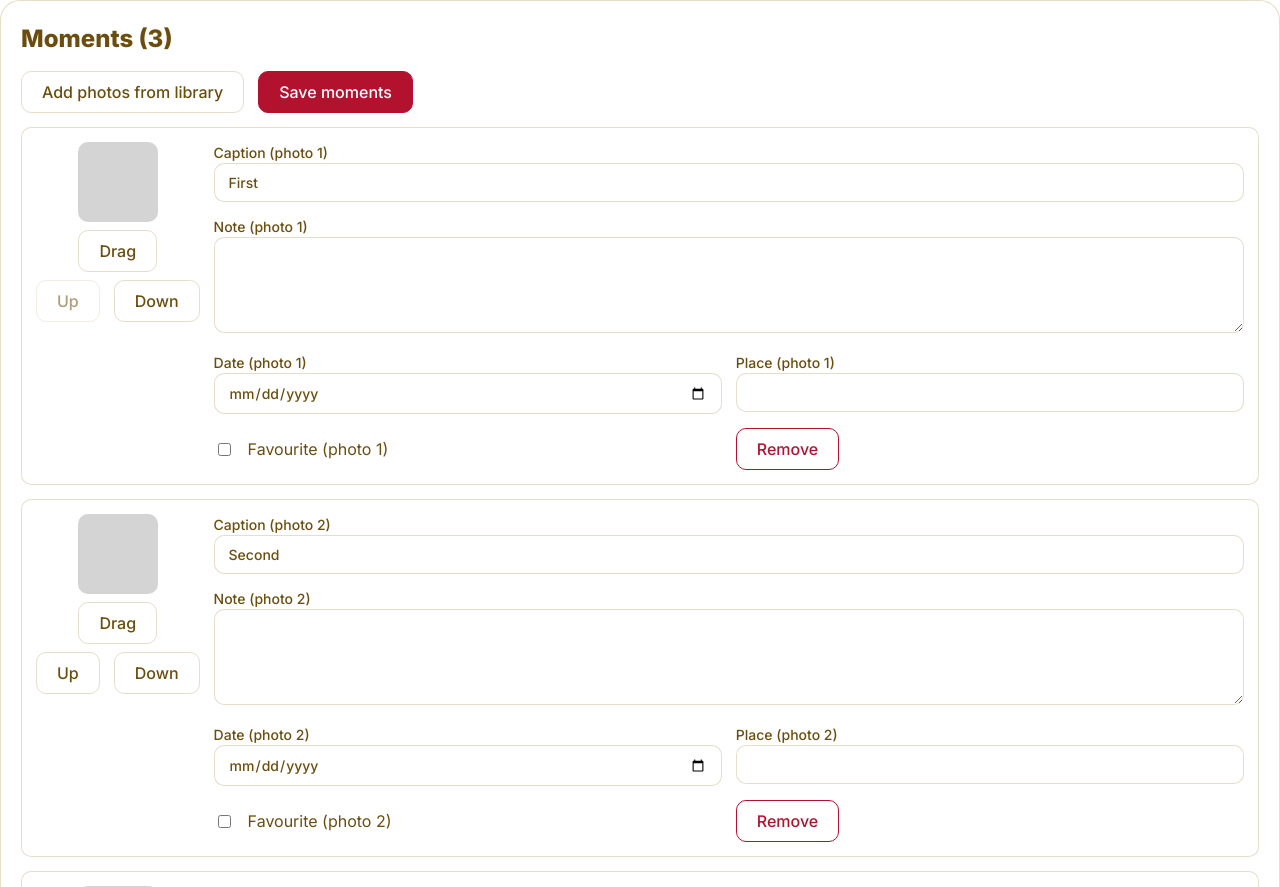
Test: MomentsEditor › drops stale server field errors after a reorder
Expected: the field labelled "Caption (photo 2)" is shown, 214,535 -> 1244,574
Click the button "Save moments" at (336, 92), box 258,71 -> 413,113
(page scrolled)
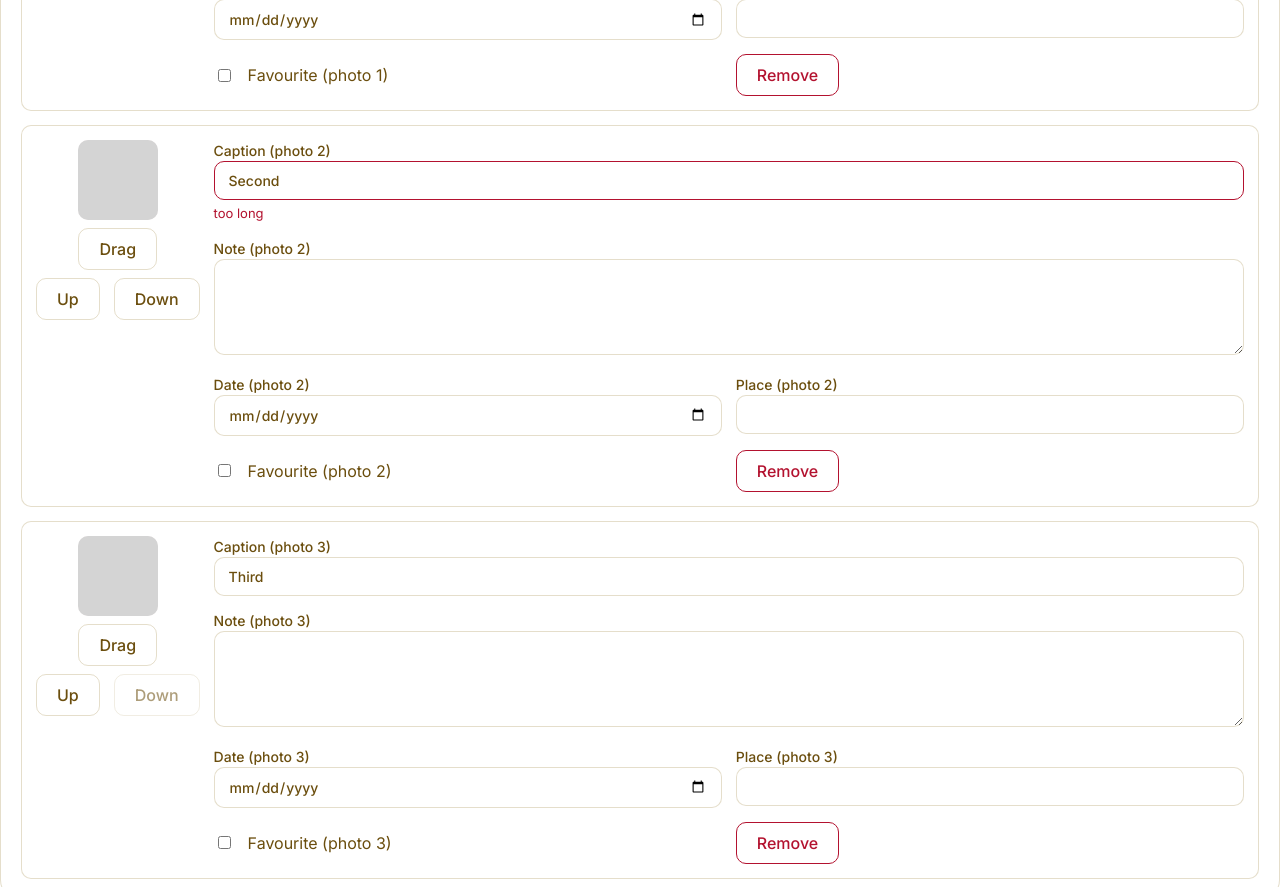
Expected: the text "too long" is shown, 214,205 -> 264,221
Click the button with aria-label "Move up (photo 3)" at (68, 694), box 36,674 -> 100,716
(page scrolled)
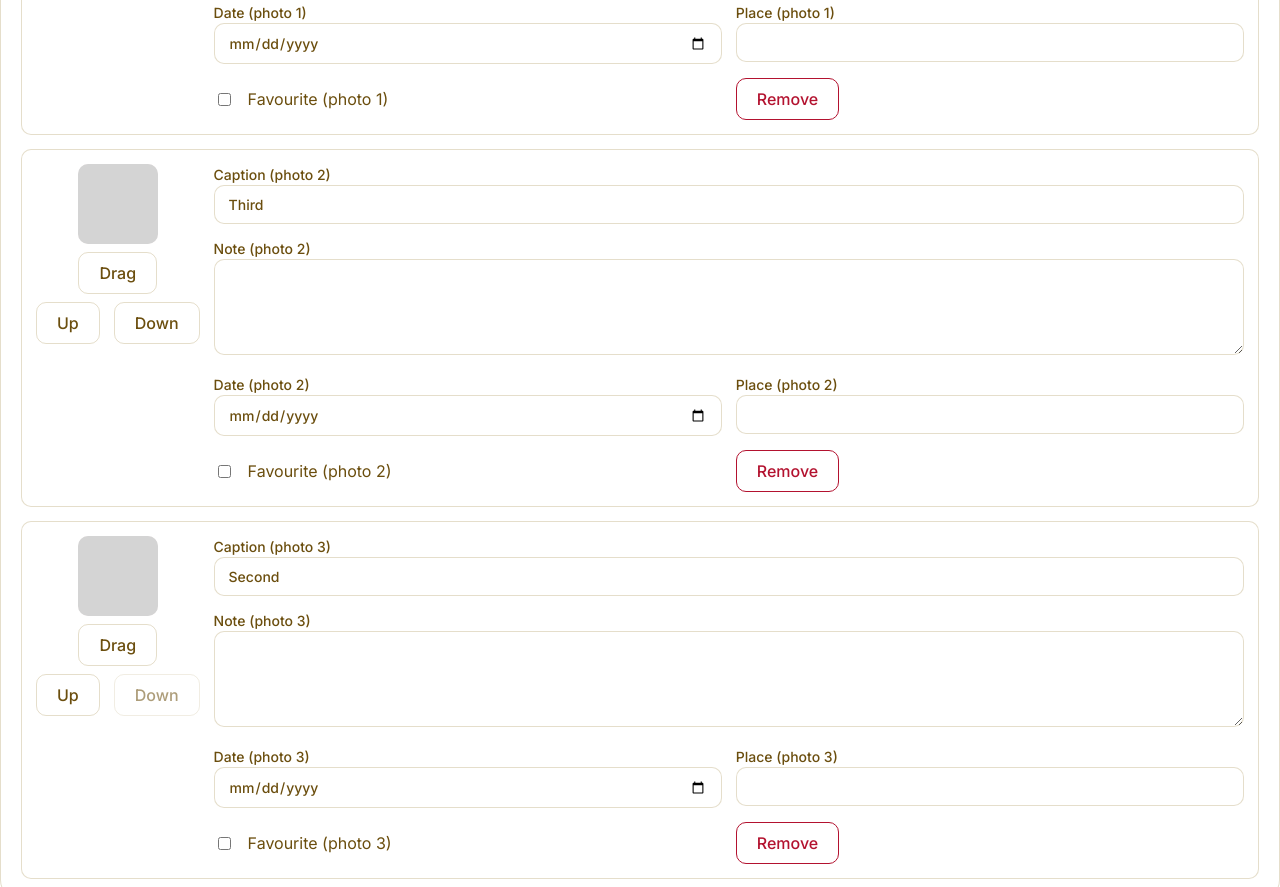
Expected: the text "too long" is gone
